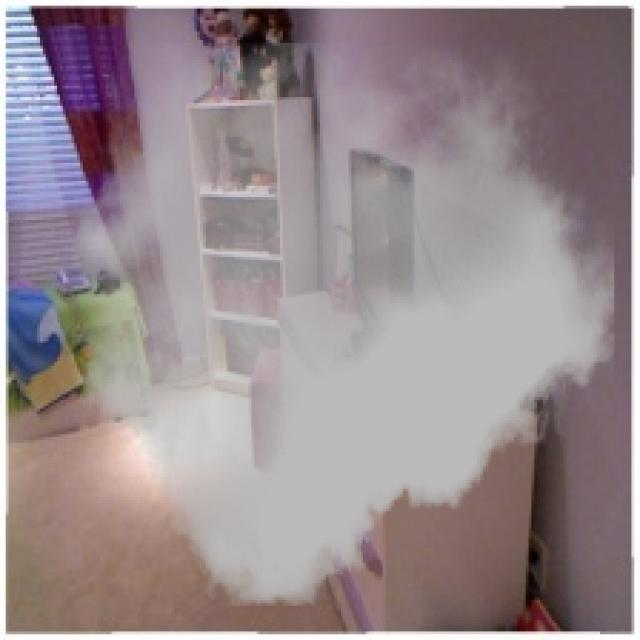smoke: (71, 43, 614, 606)
